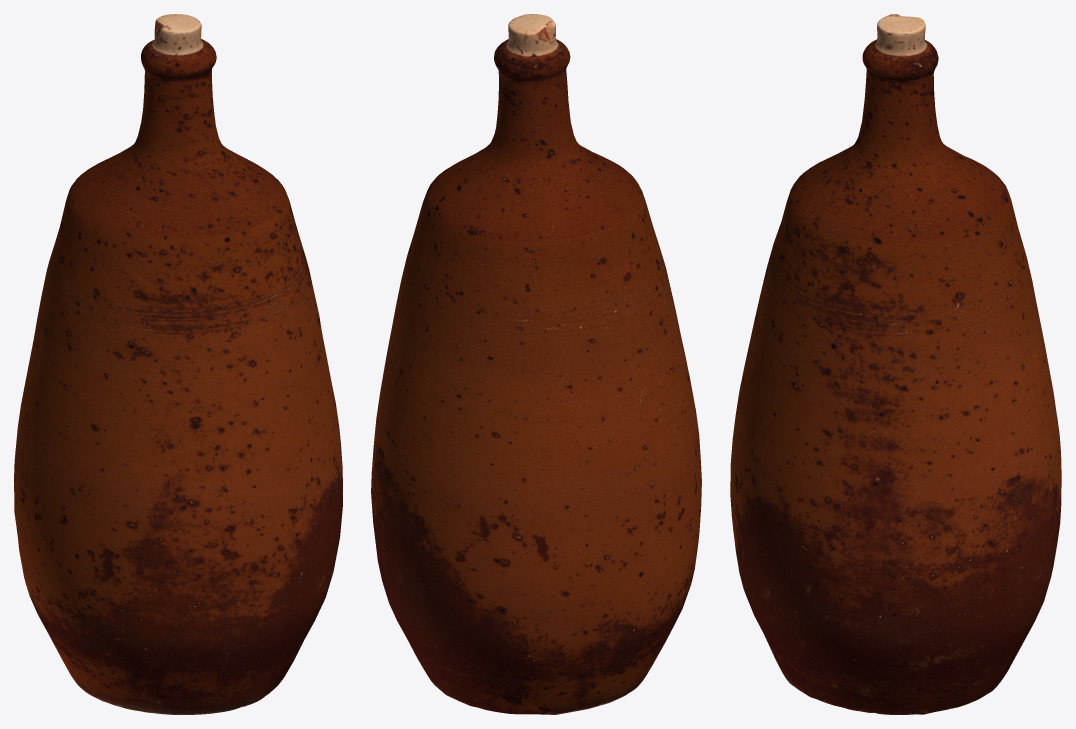
The model's file is SM_Ceramic_Bottle_B.fbx.
3 renders of one model, left to right at view 1: azimuth 30°, elevation 25°; view 2: azimuth 150°, elevation 25°; view 3: azimuth 270°, elevation 25°, orthographic.
Parts seen in each view (by area): view 1: SM_Ceramic_Bottle_B_LOD0; view 2: SM_Ceramic_Bottle_B_LOD0; view 3: SM_Ceramic_Bottle_B_LOD0.
Boxes of the visible parts, x1,y1,x2,y2 form: SM_Ceramic_Bottle_B_LOD0: (14, 14, 342, 714); SM_Ceramic_Bottle_B_LOD0: (371, 14, 701, 714); SM_Ceramic_Bottle_B_LOD0: (730, 14, 1061, 714).
Bounding box in the file's own units: 15.67 × 15.71 × 34.
Materials: 1 (1 with a texture image).
